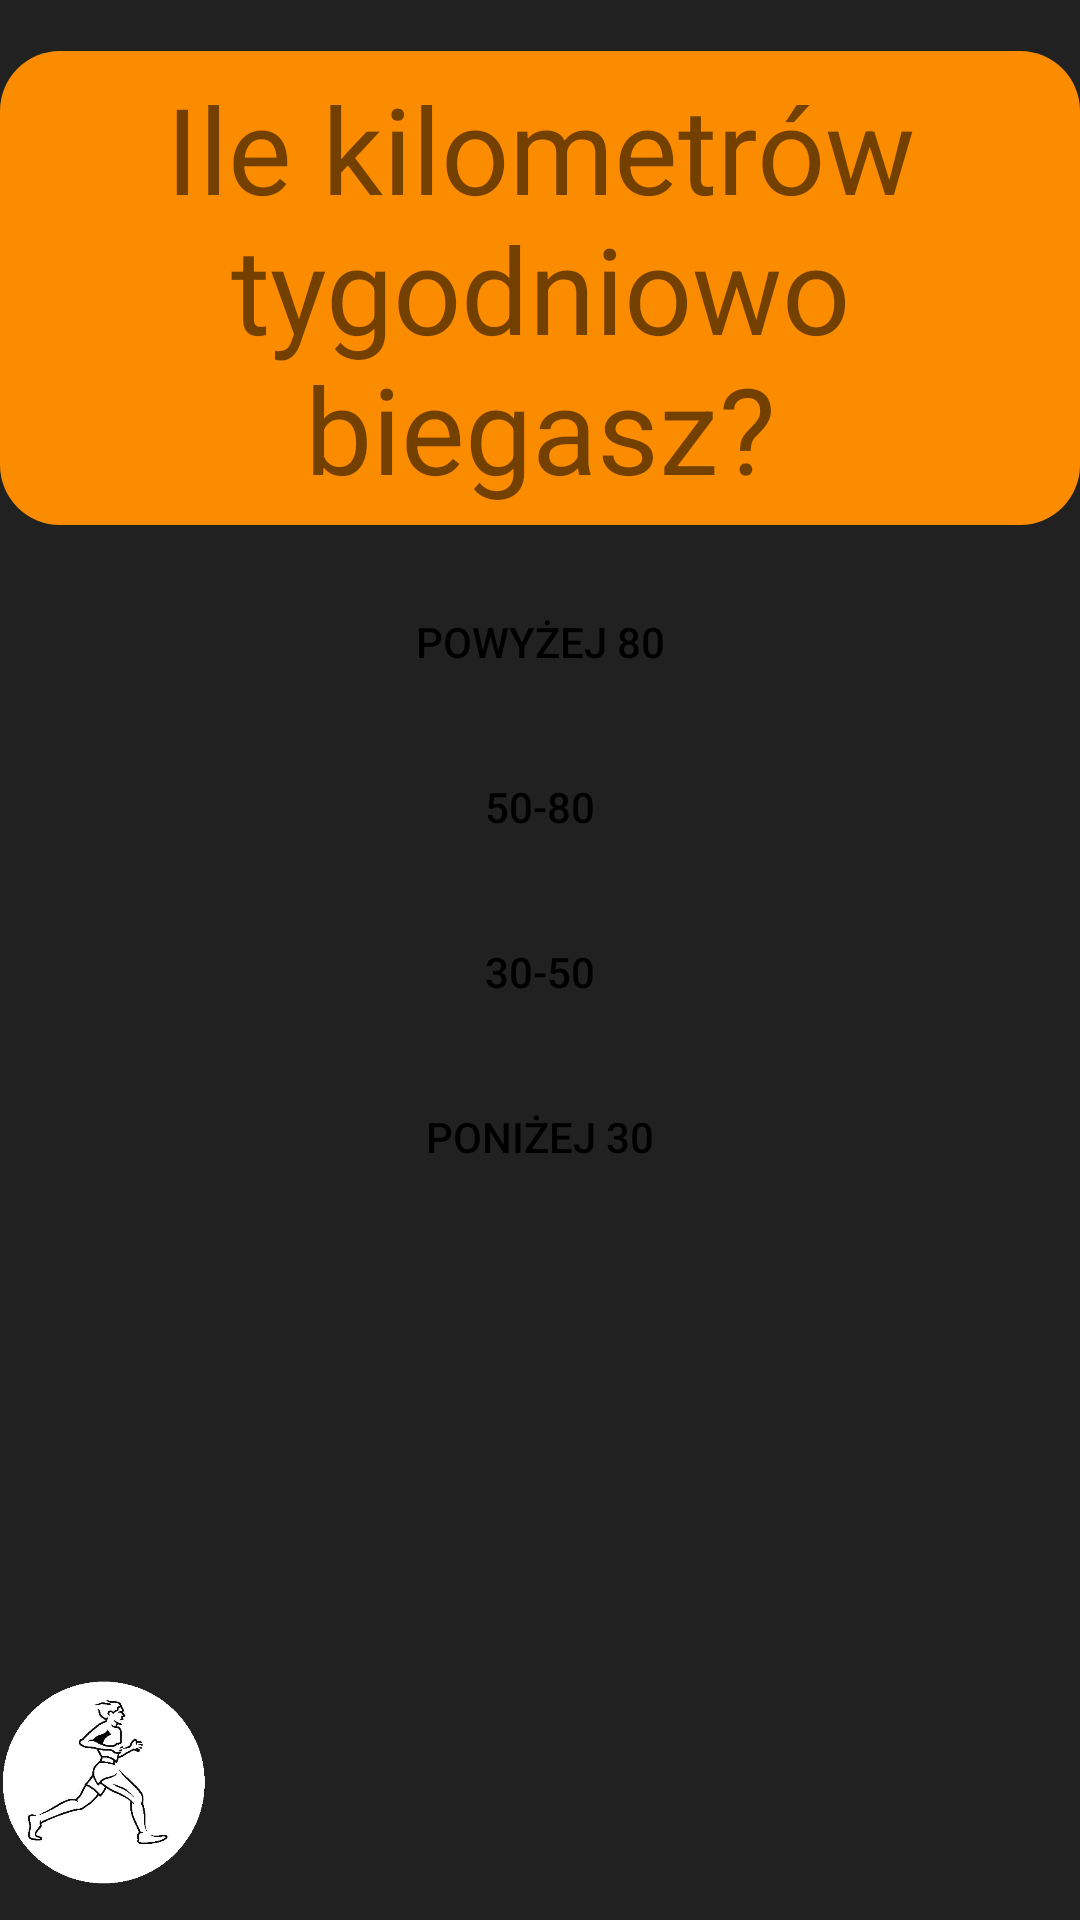

Where icons sit on this 1080 x 1920 app screen, as (x1, y1, x2, y2):
biegaczz: (3, 1681, 205, 1884)
